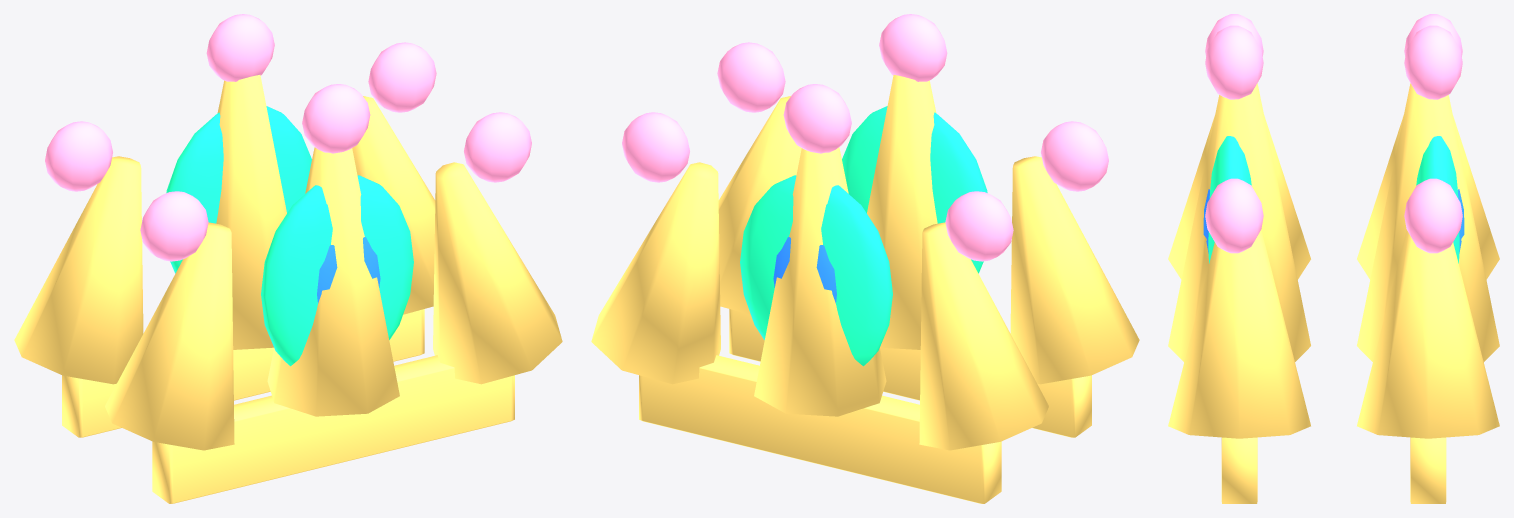
Rendered from hedgeguard_emblem_9.glb.
The picture shows the model from 3 angles, left to right: view 1: azimuth 30°, elevation 25°; view 2: azimuth 150°, elevation 25°; view 3: azimuth 270°, elevation 25°; orthographic projection. The views are drawn at different scales.
Visible parts, largest first — view 1: EmblemPearococo; view 2: EmblemPearococo; view 3: EmblemPearococo.
Boxes of the visible parts, <box> form: EmblemPearococo: <box>14,14,562,503</box>; EmblemPearococo: <box>591,14,1139,503</box>; EmblemPearococo: <box>1168,14,1499,503</box>.
Size of the model in its own units: 0.82 by 0.658 by 0.51.
